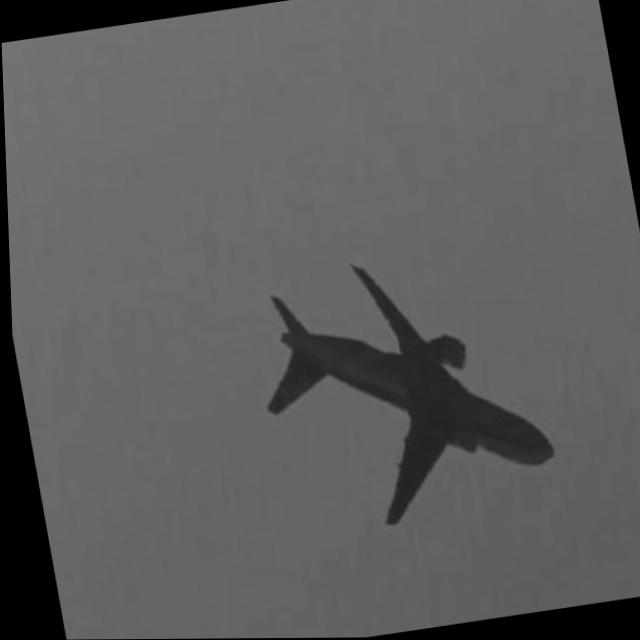aeroplane: (213, 223, 593, 572)
